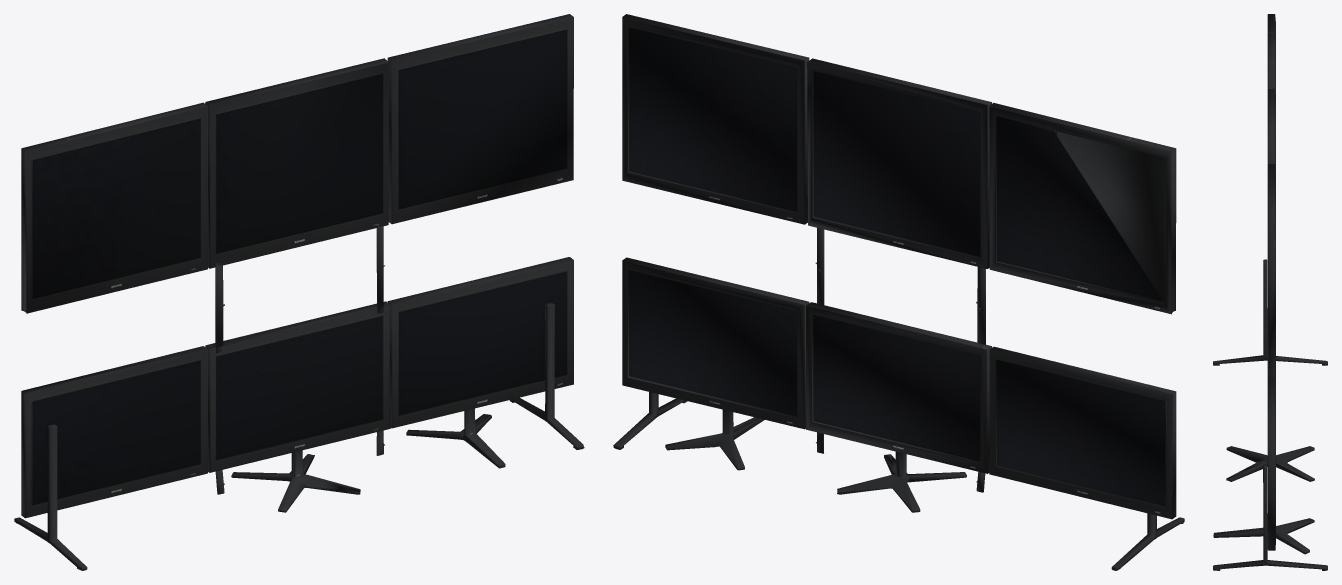
File: mall-tv-wall-bank.glb
3 renders of one model, left to right at view 1: azimuth 30°, elevation 25°; view 2: azimuth 150°, elevation 25°; view 3: azimuth 270°, elevation 25°, orthographic. The views are drawn at different scales.
Parts seen in each view (by area): view 1: tv-wall-bank; view 2: tv-wall-bank; view 3: tv-wall-bank.
Part boxes in pixels (left/top/right/bottom): tv-wall-bank: left=14, top=14, right=584, bottom=570; tv-wall-bank: left=613, top=14, right=1184, bottom=570; tv-wall-bank: left=1213, top=14, right=1327, bottom=570.
Bounding box in the file's own units: 2.4 × 1.69 × 0.514.
1 material, 1 textured.
